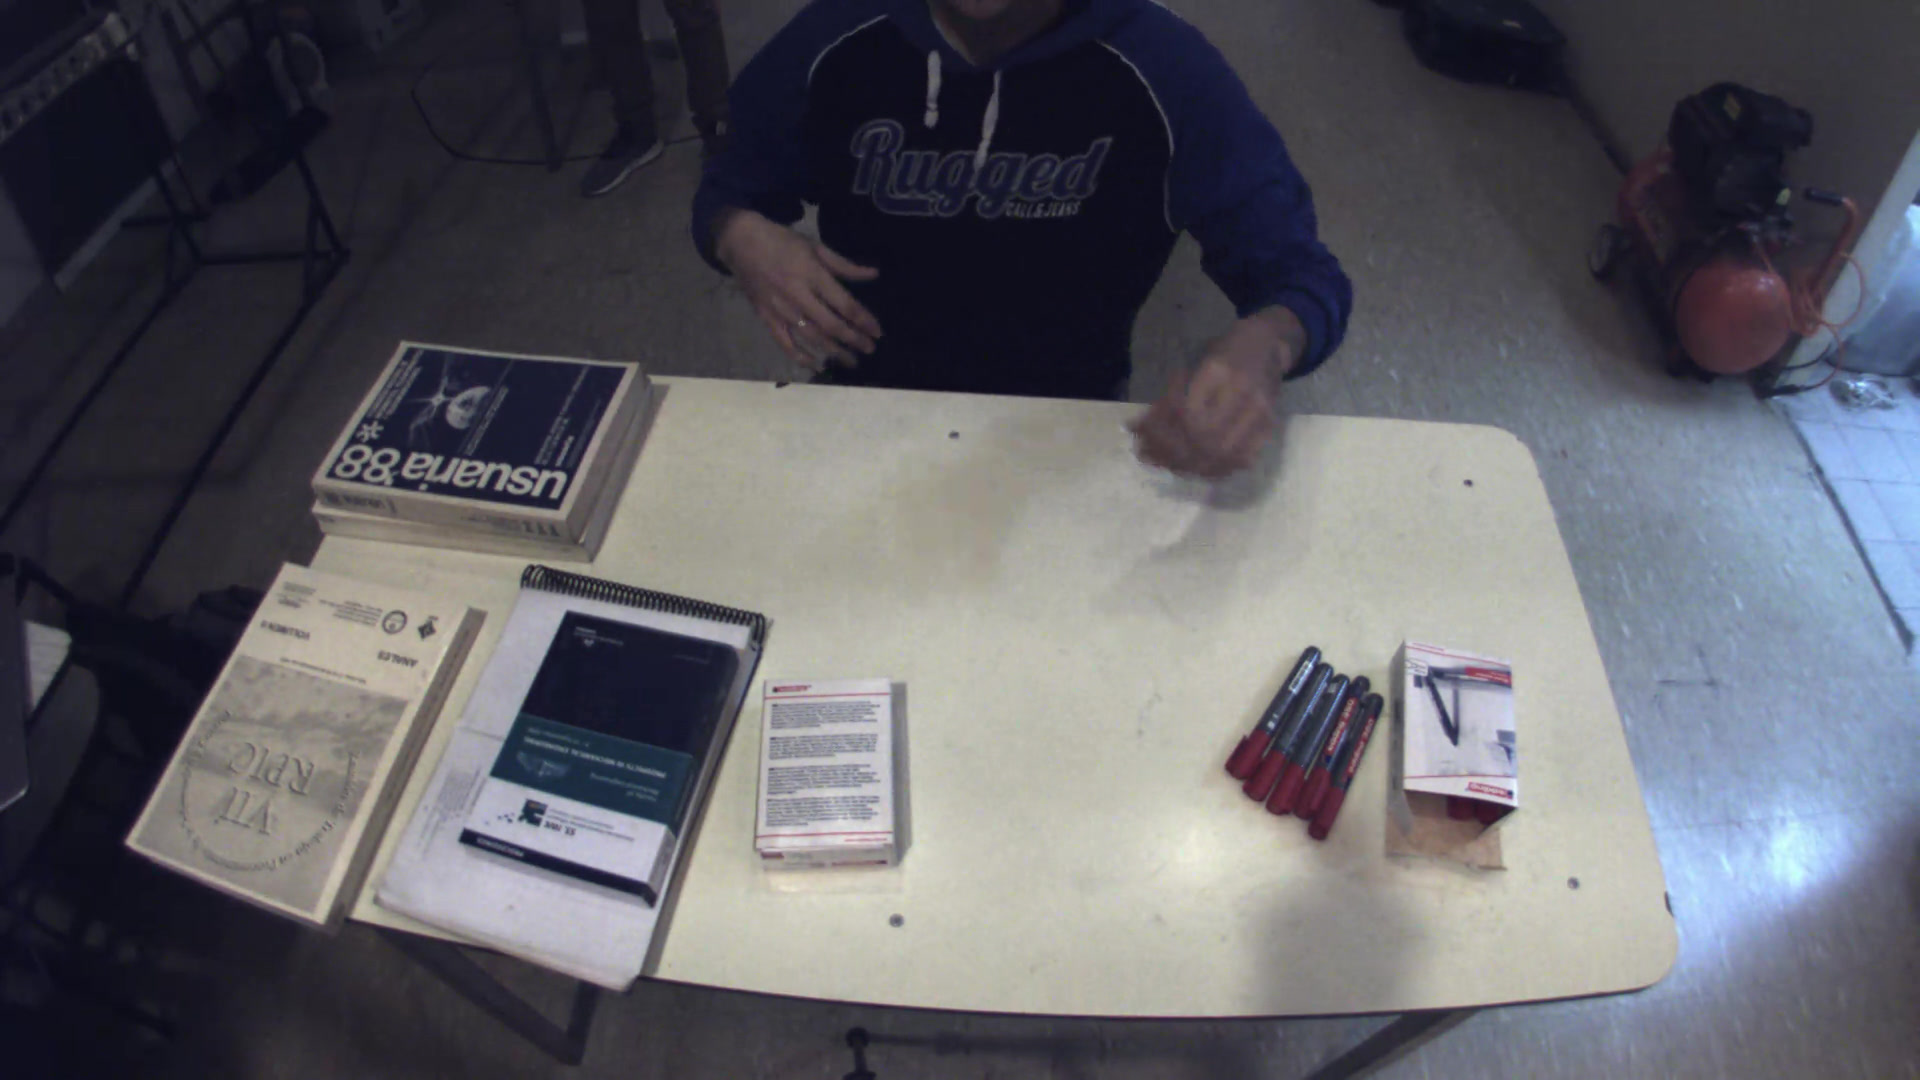hand: (1120, 319, 1300, 483), (717, 204, 891, 367)
